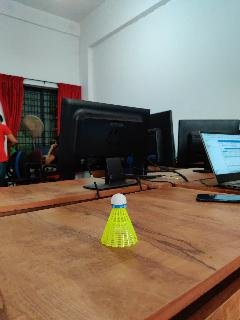shuttlecock: (102, 192, 136, 246)
